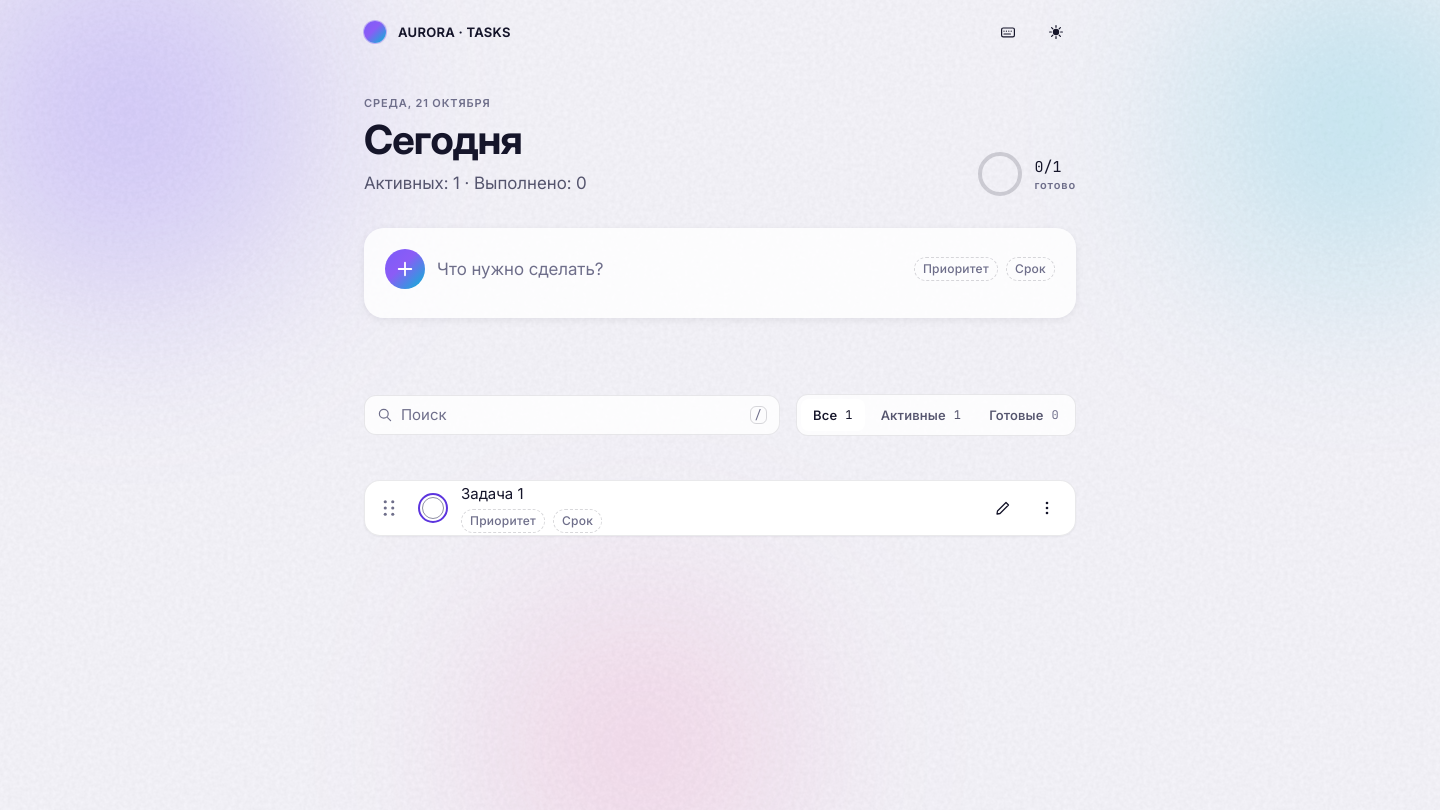
Test: keyboard flow (design-spec 6.3 / section 7) › editing from the keyboard (acceptance criterion 32) › Enter in an open priority popup picks the item instead of saving the task
This screenshot has width=1440, height=810.
Type keys "e"
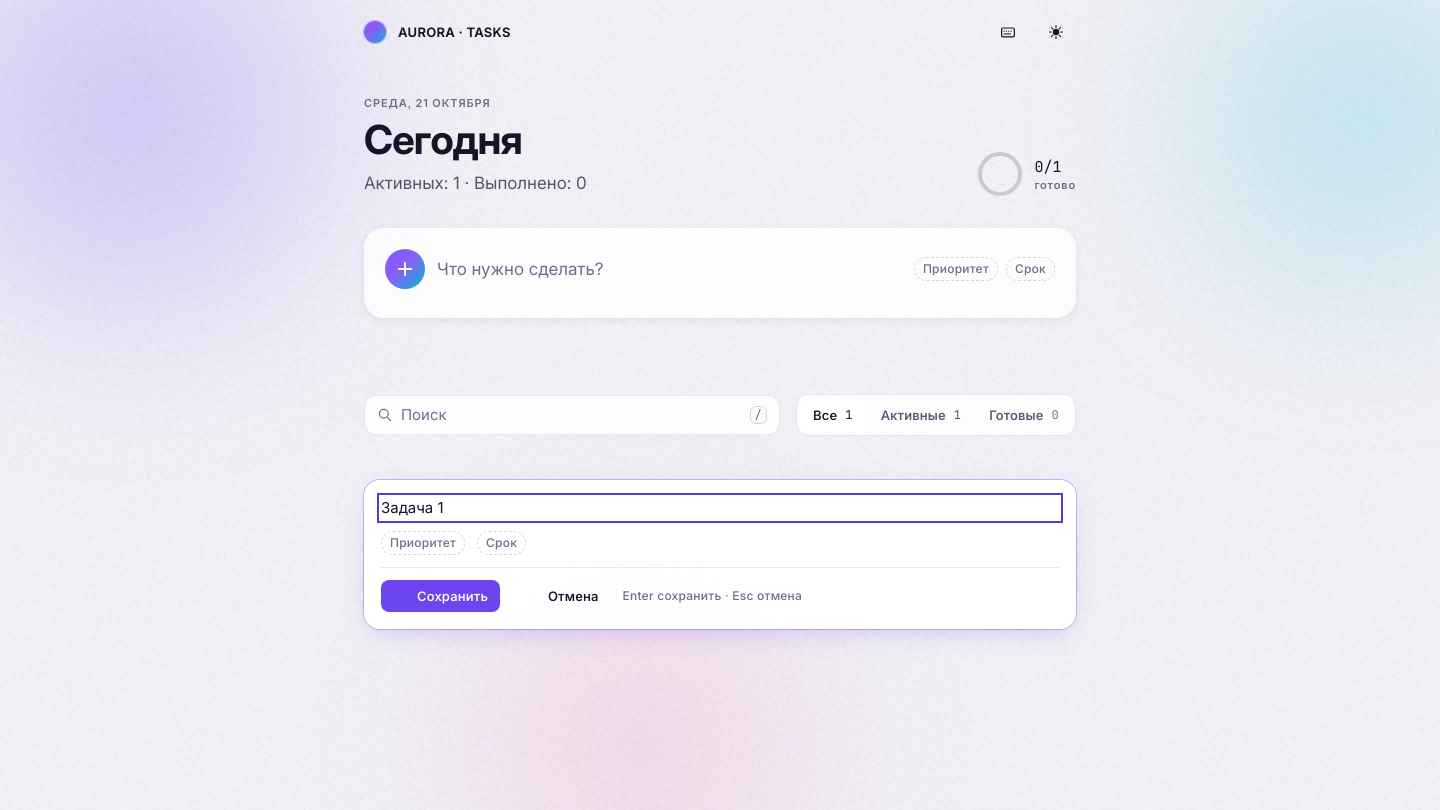
Click the 2nd button "Приоритет": {"x": 423, "y": 543} [381,531,465,555]
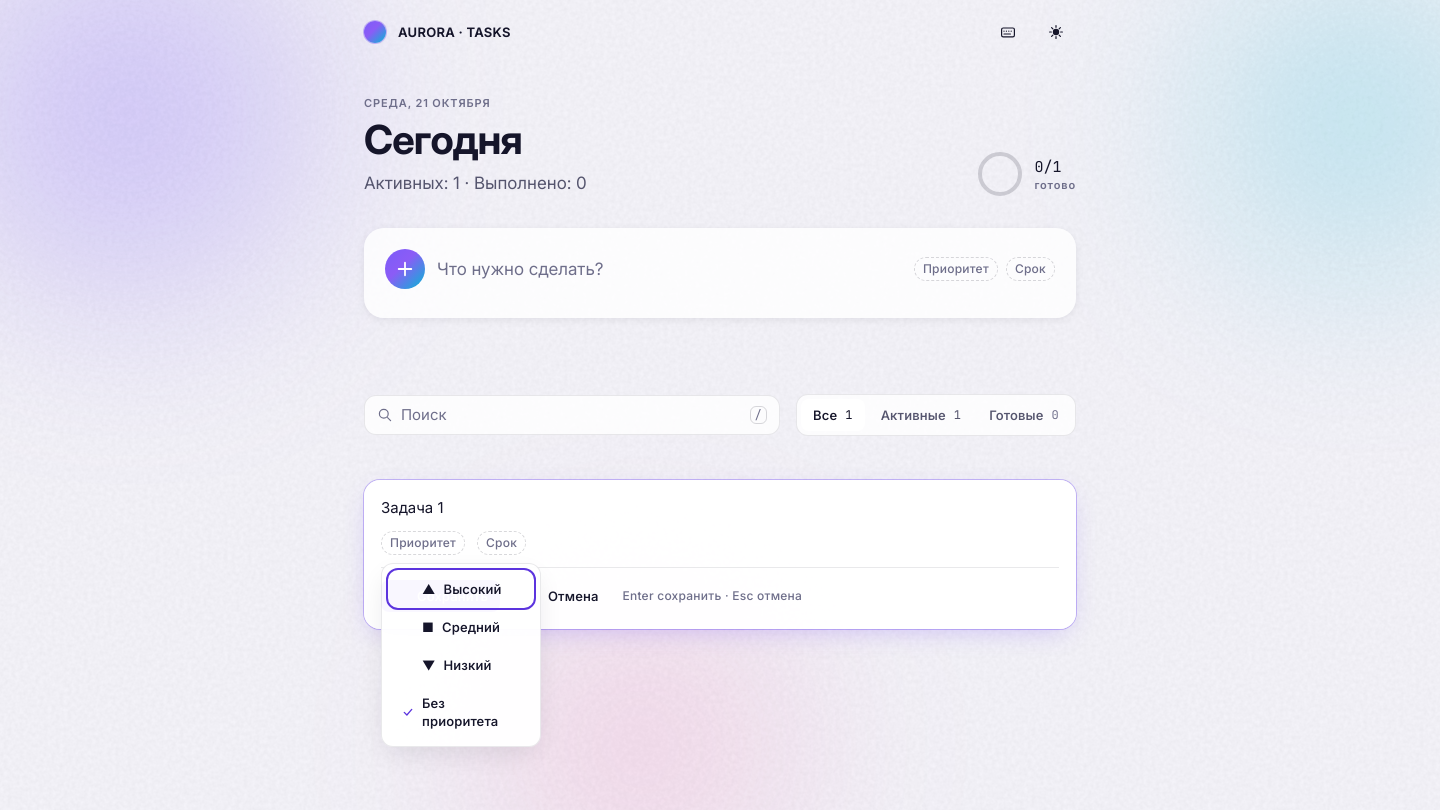
Now the menu is shown, box [381,563,541,747]
Press Arrowdown
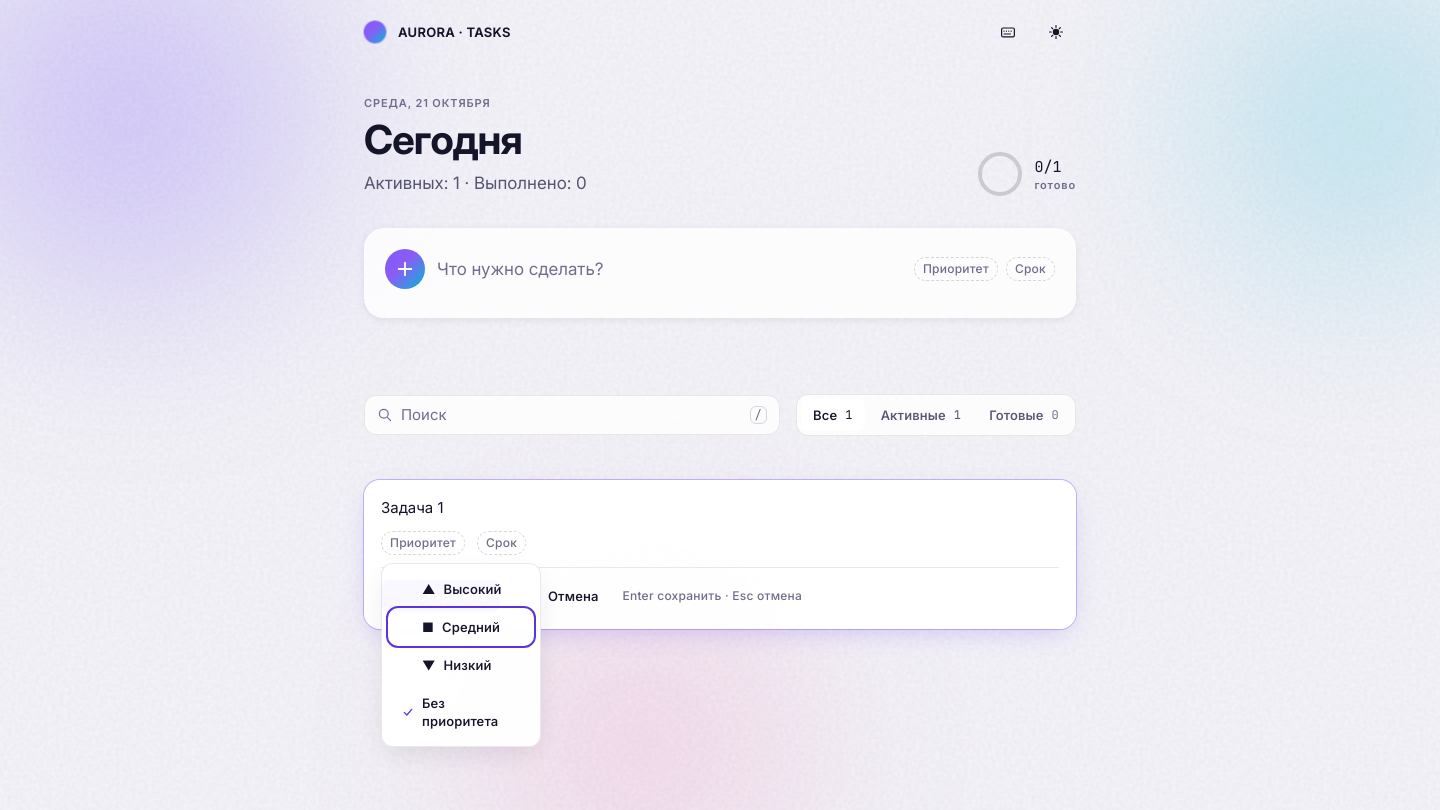
Press Enter
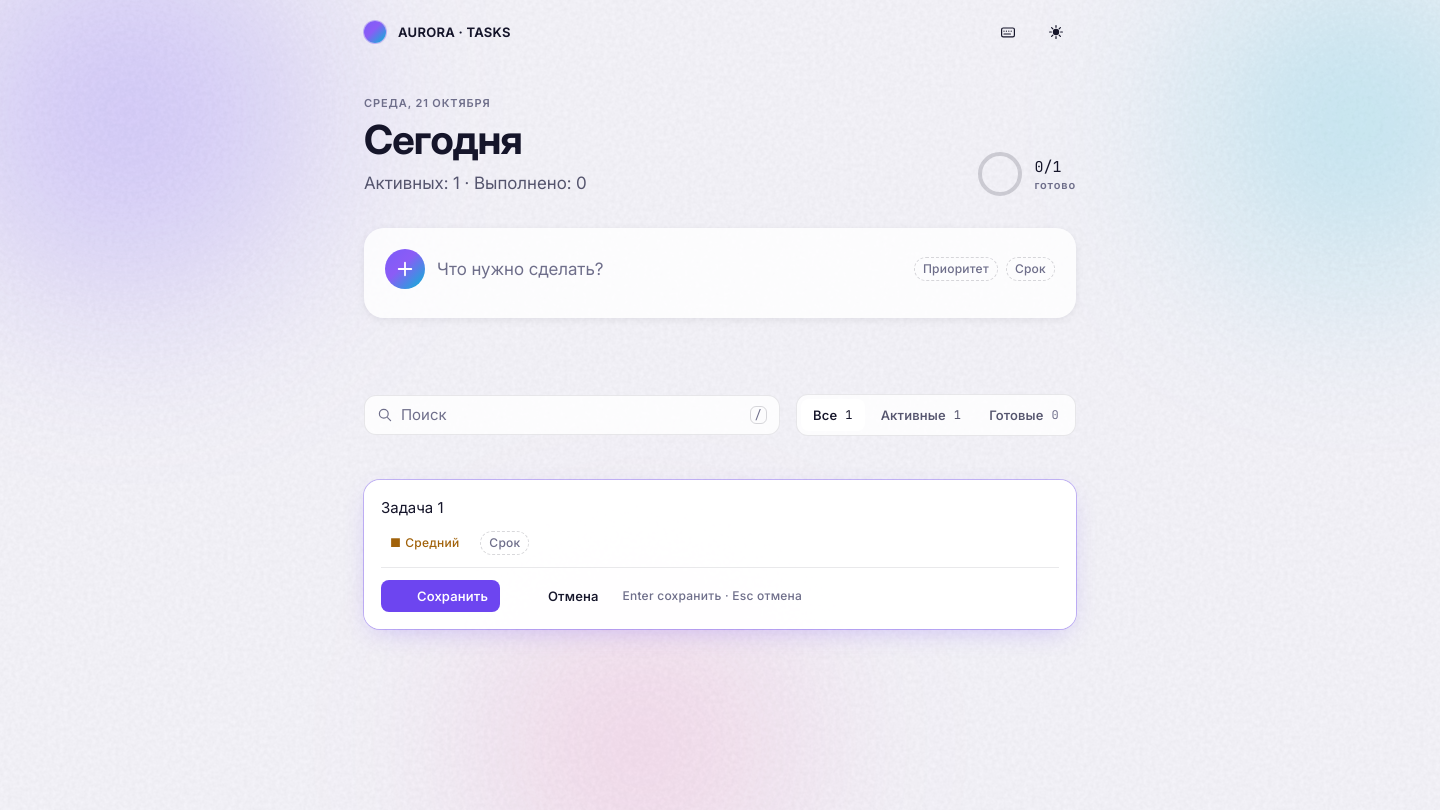
Now the text box named "Текст задачи" is shown, box [381,497,1059,519]
Now the menu is gone
Now the button "■ Средний" is shown, box [381,531,468,555]
